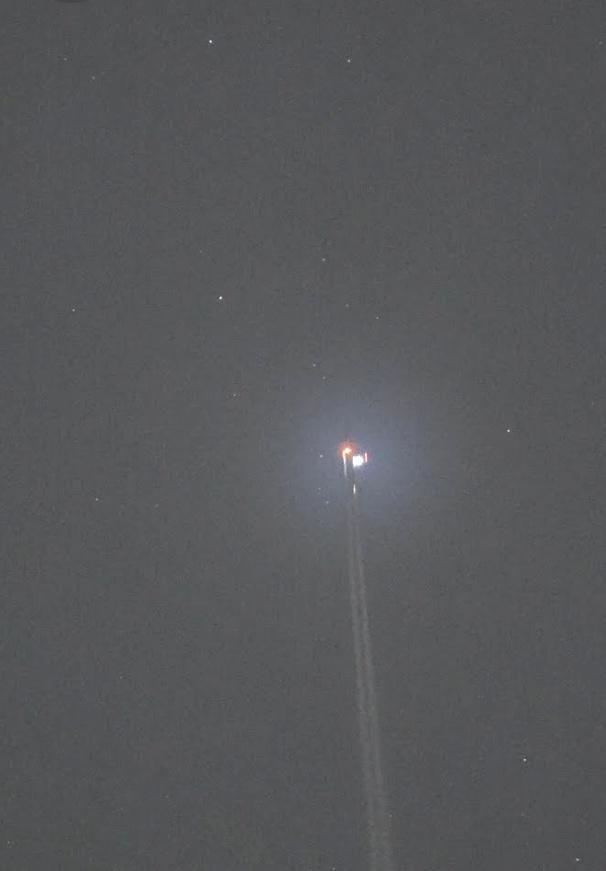Plane: (322, 421, 381, 505)
